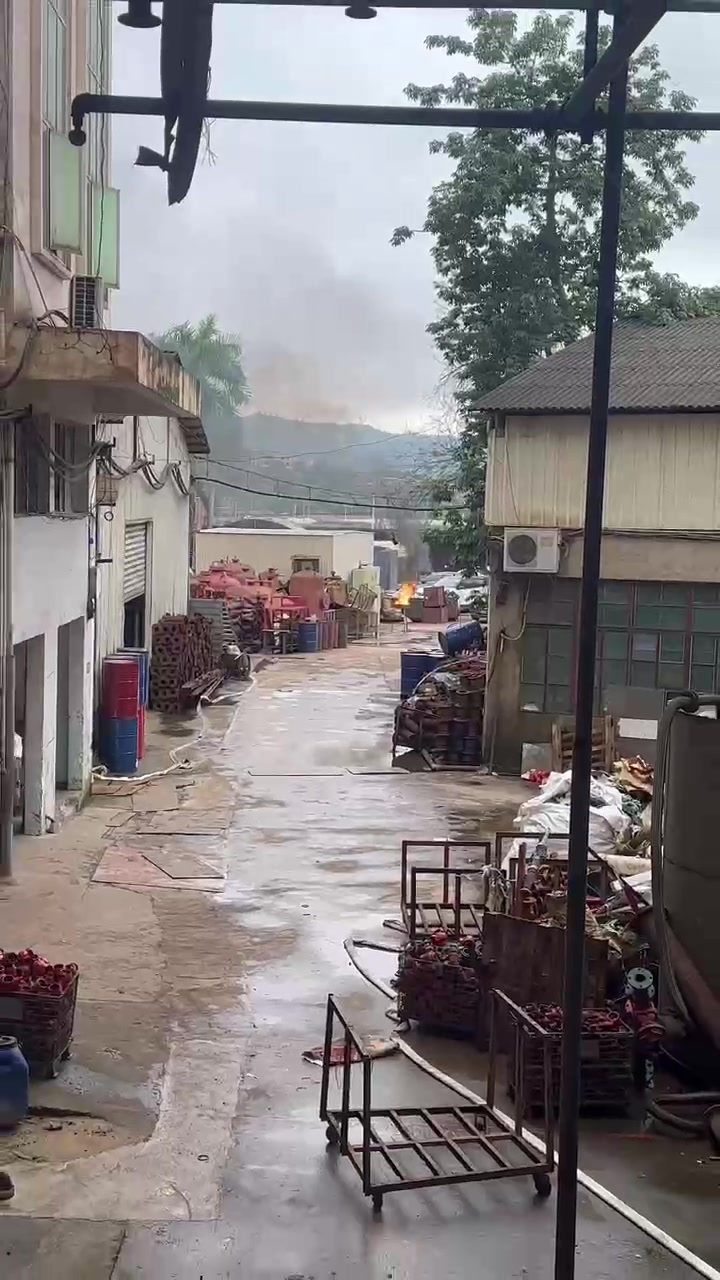fire: (395, 582, 414, 603)
